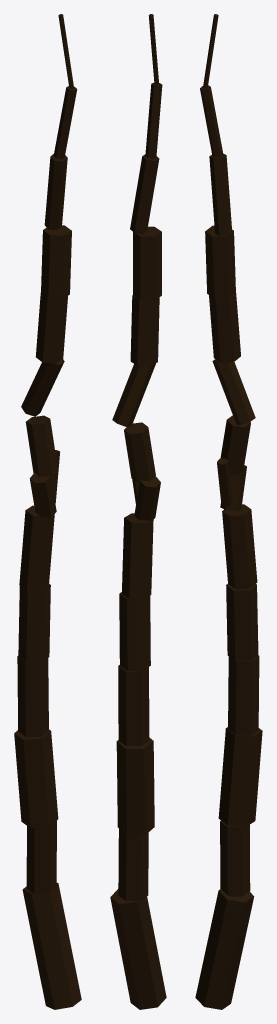
The model's file is tree_545_no_leaf.obj.
3 views of the same model, side by side, from view 1: azimuth 90°, elevation 25°; view 2: azimuth 150°, elevation 25°; view 3: azimuth 270°, elevation 25° (orthographic).
Parts seen in each view (by area): view 1: TrunkAndBranches; view 2: TrunkAndBranches; view 3: TrunkAndBranches.
Boxes of the visible parts, x1,y1,x2,y2 form: TrunkAndBranches: (14,14,81,1009); TrunkAndBranches: (110,14,166,1009); TrunkAndBranches: (195,14,262,1009).
Bounding box in the file's own units: 0.1743 × 3.76 × 0.2323.
